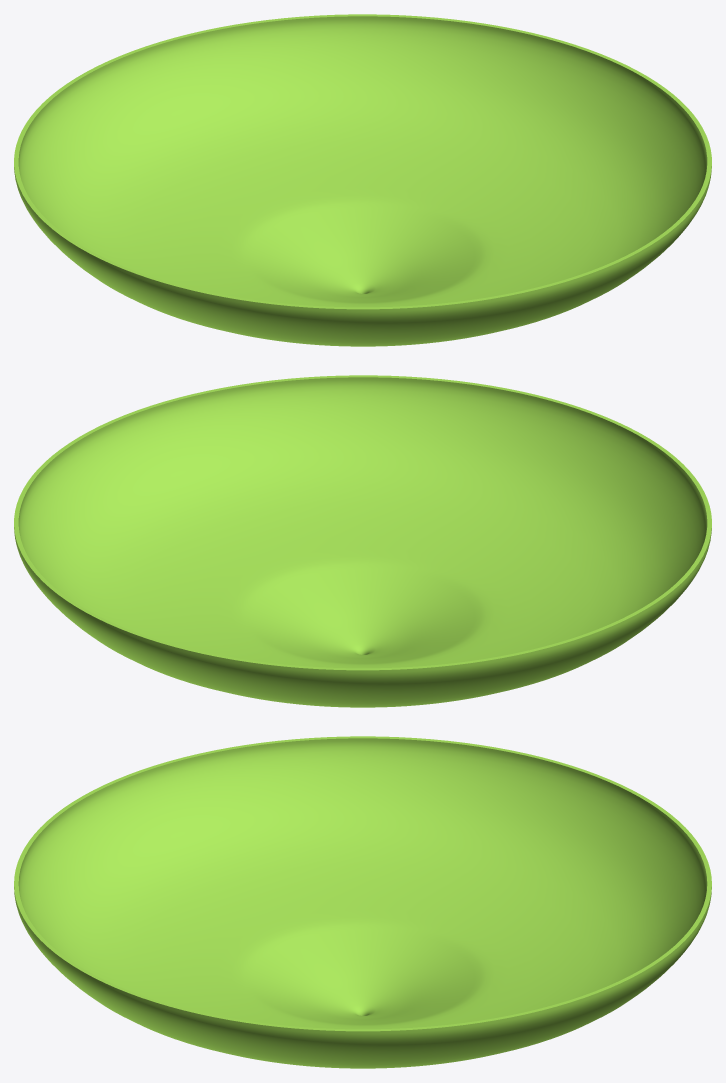
Rendered from Teller3.fbx.
3 views of the same model, one above another, from view 1: azimuth 30°, elevation 25°; view 2: azimuth 150°, elevation 25°; view 3: azimuth 270°, elevation 25° (orthographic).
Visible parts, largest first — view 1: Circle; view 2: Circle; view 3: Circle.
Boxes of the visible parts, x1,y1,x2,y2 form: Circle: [14, 14, 711, 346]; Circle: [14, 375, 711, 707]; Circle: [14, 736, 711, 1068].
Size of the model in its own units: 149 by 39.99 by 149.
